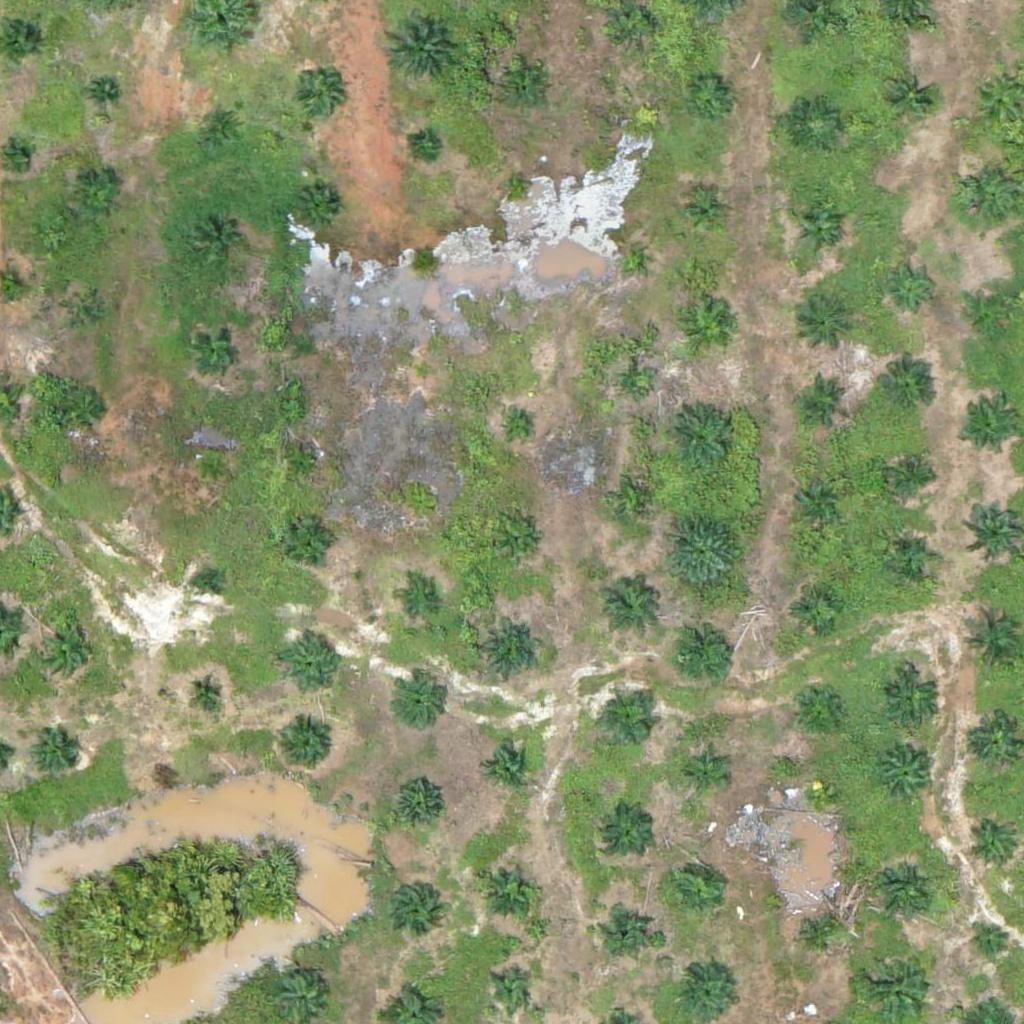Kelapa_Sawit: (662, 399, 737, 475), (666, 617, 741, 693), (861, 943, 936, 1019), (666, 513, 741, 589), (383, 11, 458, 87), (595, 572, 658, 635), (880, 668, 943, 731), (480, 618, 543, 681), (796, 292, 859, 355), (954, 163, 1017, 226), (875, 361, 938, 424), (34, 619, 97, 682), (959, 399, 1021, 462), (872, 860, 934, 923), (960, 612, 1022, 675), (274, 715, 336, 778), (478, 857, 540, 920), (278, 633, 340, 696), (877, 747, 939, 809), (64, 384, 114, 435), (394, 677, 444, 728), (391, 778, 441, 829), (482, 742, 532, 793), (284, 514, 334, 565), (790, 100, 840, 151), (685, 71, 735, 122), (883, 71, 933, 122), (969, 284, 1019, 335), (887, 261, 937, 312), (795, 203, 845, 254), (603, 903, 653, 953), (606, 697, 656, 747), (602, 807, 652, 857), (792, 680, 842, 730), (791, 584, 841, 634), (973, 715, 1023, 765), (669, 863, 719, 913), (388, 881, 438, 931), (684, 305, 734, 355), (796, 906, 846, 956), (503, 65, 553, 115), (885, 450, 935, 500), (887, 534, 937, 584), (793, 470, 843, 520), (798, 375, 848, 425), (680, 188, 730, 238), (968, 819, 1018, 869), (32, 727, 82, 777), (292, 71, 342, 121), (295, 185, 345, 235), (192, 324, 242, 374), (192, 217, 242, 267), (199, 103, 249, 153), (72, 173, 122, 223), (684, 753, 722, 791), (397, 583, 435, 621), (971, 921, 1009, 959), (502, 526, 539, 564), (491, 970, 528, 1008), (189, 674, 226, 712), (193, 450, 231, 487), (67, 295, 105, 332), (286, 444, 323, 482), (412, 134, 437, 160), (624, 490, 649, 516), (617, 245, 642, 270), (622, 373, 647, 398), (505, 416, 530, 441), (505, 172, 530, 197), (805, 781, 830, 806), (195, 571, 220, 596), (3, 144, 28, 169), (411, 361, 436, 386), (91, 80, 115, 105)
